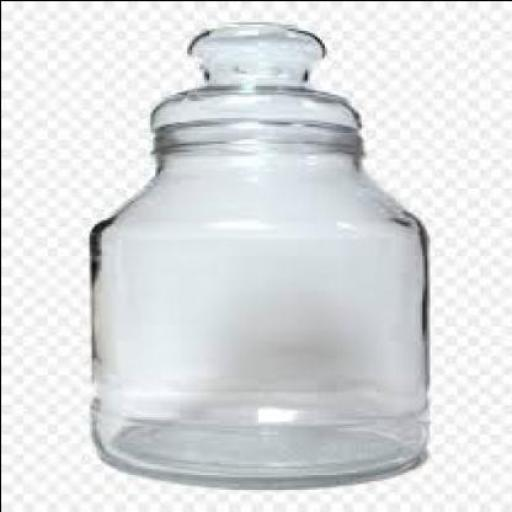glass: (94, 19, 428, 484)
